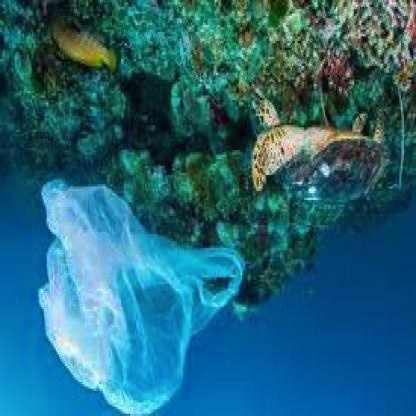pbag: (36, 175, 245, 416)
